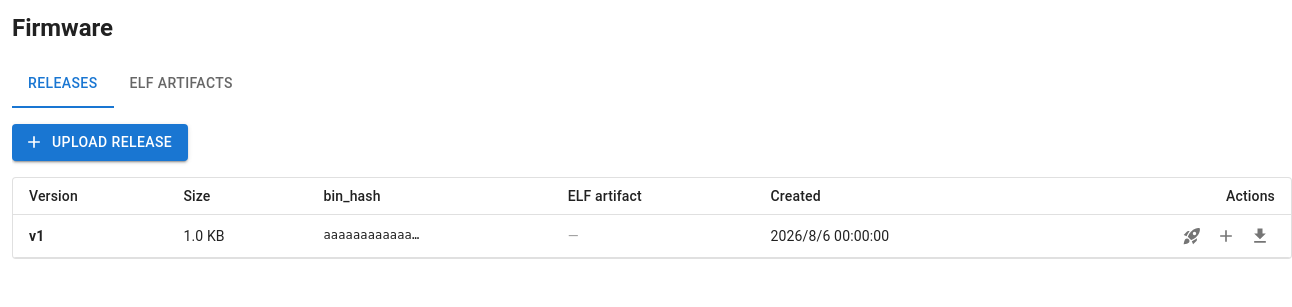
Test: FirmwarePage size formatting and download › shows an error when the download fails
Expected: the text "v1" is shown, [13, 214, 167, 257]
Click the button named "Download bin" at coordinates (1260, 236), box [1245, 220, 1275, 250]
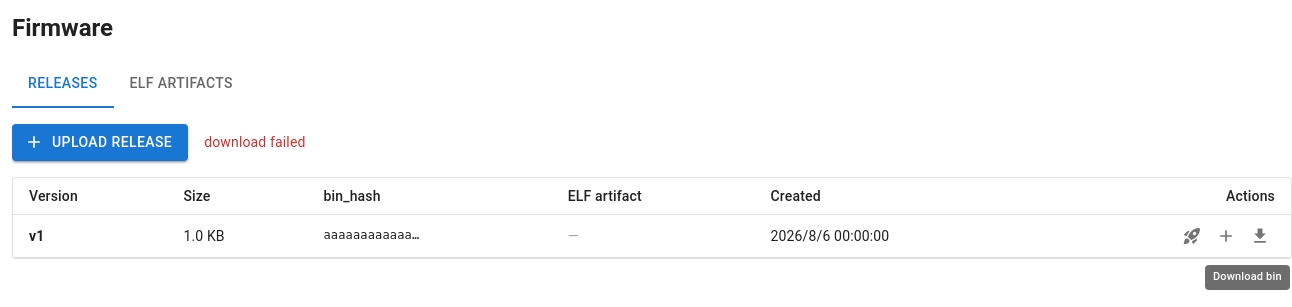
Result: the text "download failed" is shown at [204, 132, 306, 152]
